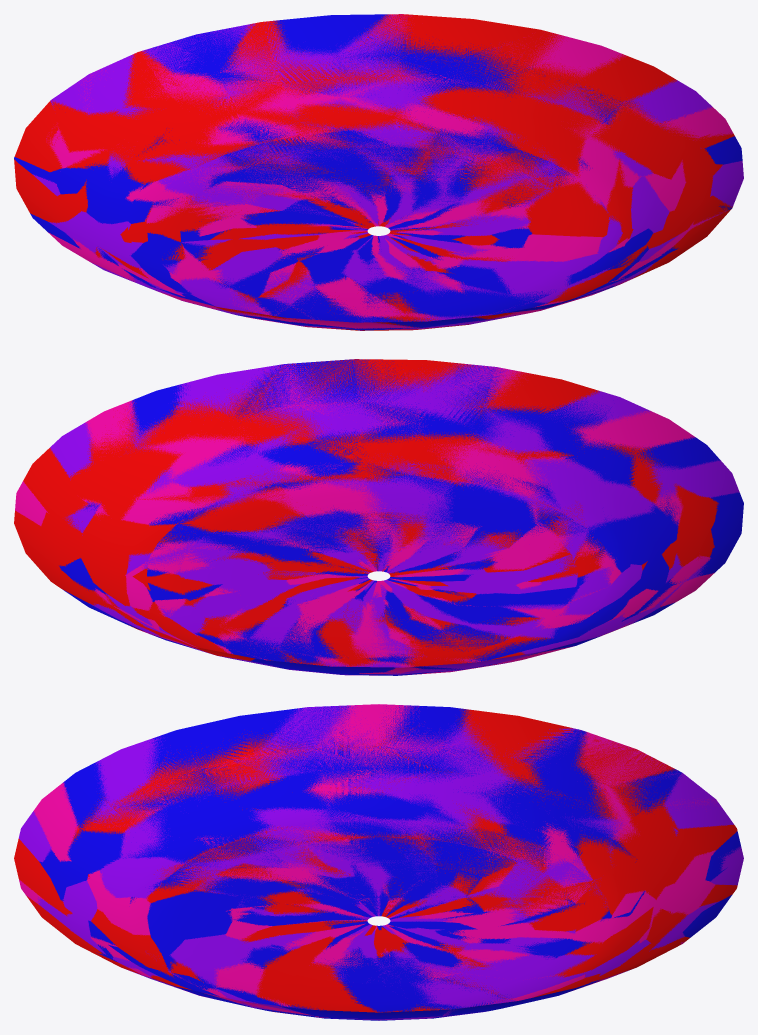
The model's file is p_mesh_plasmadrill_diameter_glow02.fbx.
3 views of the same model, one above another, from view 1: azimuth 30°, elevation 25°; view 2: azimuth 150°, elevation 25°; view 3: azimuth 270°, elevation 25° (orthographic).
Parts seen in each view (by area): view 1: plasmadrill_diameter_glow02.003; view 2: plasmadrill_diameter_glow02.003; view 3: plasmadrill_diameter_glow02.003.
Part boxes in pixels (left/top/right/bottom): plasmadrill_diameter_glow02.003: left=14, top=14, right=743, bottom=330; plasmadrill_diameter_glow02.003: left=14, top=359, right=743, bottom=675; plasmadrill_diameter_glow02.003: left=14, top=704, right=743, bottom=1020.
Bounding box in the file's own units: 5.76 × 0.545 × 5.76.
